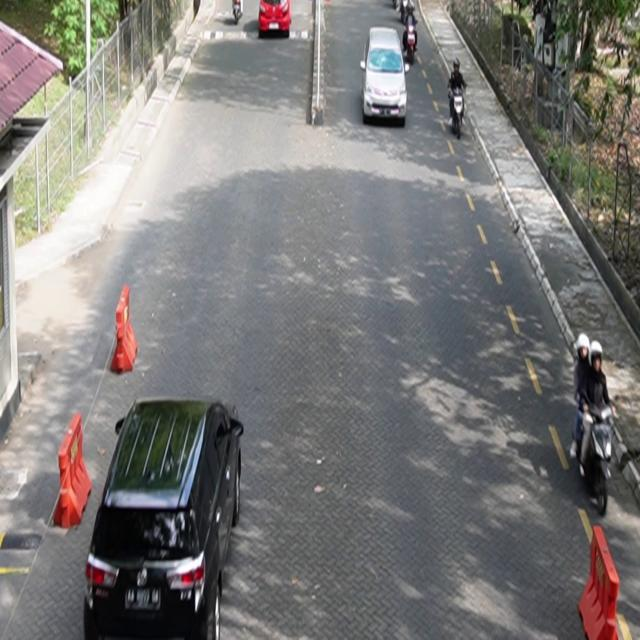car: (85, 397, 245, 640), (361, 27, 410, 127), (259, 1, 292, 38)
